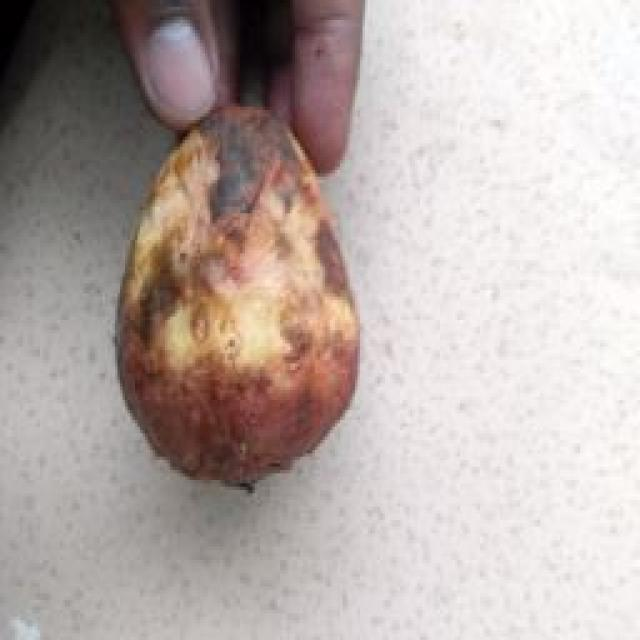Bad_Guava: (119, 107, 359, 482)
